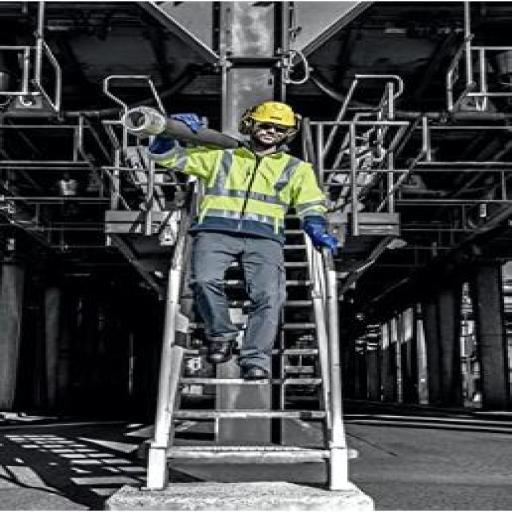safety_boots: (236, 358, 271, 386), (202, 341, 229, 367)
